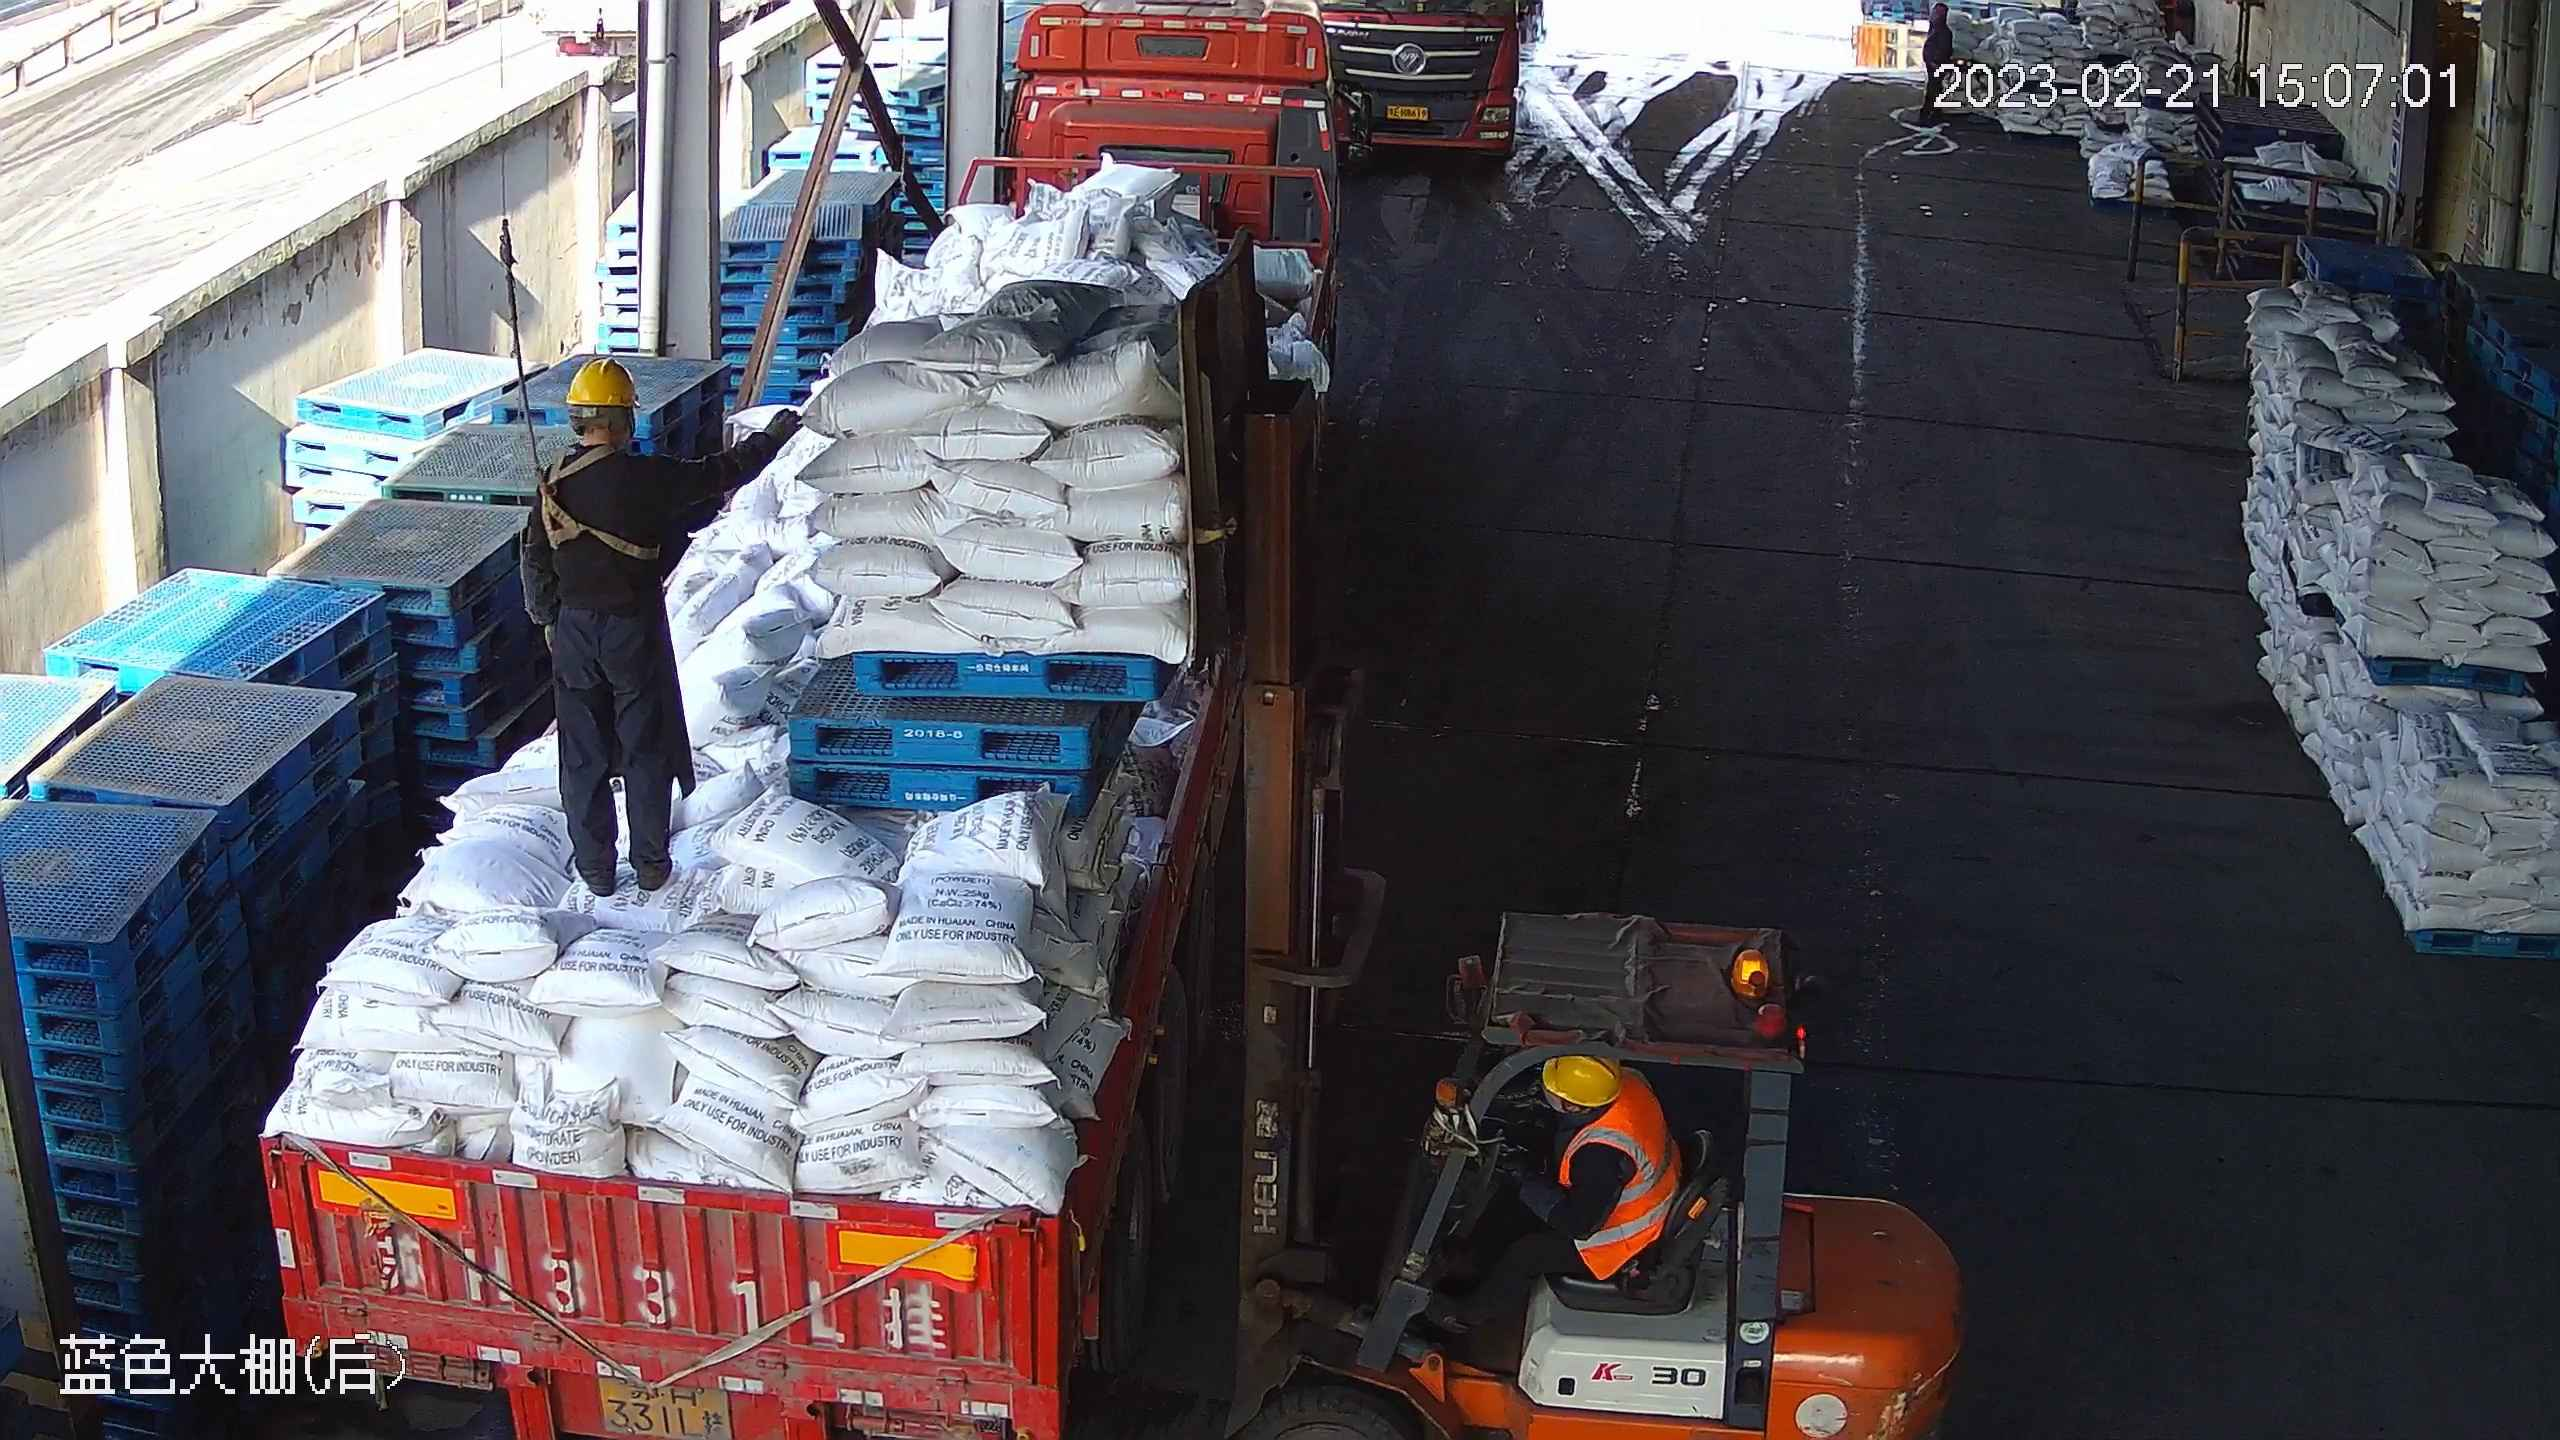belt: (524, 442, 659, 568)
head: (1491, 1042, 1676, 1195), (529, 356, 676, 530), (1923, 2, 1959, 68)
helmet: (1540, 1051, 1617, 1109), (567, 359, 633, 409), (1932, 1, 1949, 20)
people: (521, 351, 795, 902), (1422, 1039, 1674, 1349), (1922, 5, 1958, 138)
truck: (253, 1, 1347, 1440), (1315, 1, 1543, 178)
